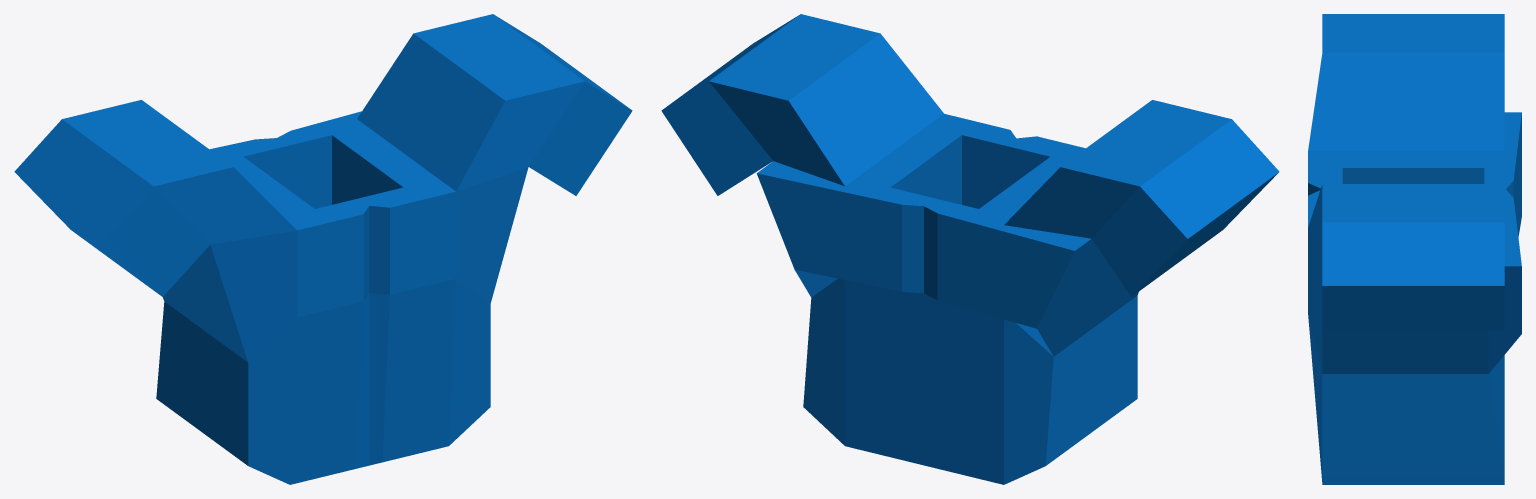
The model's file is armor.fbx.
3 views of the same model, side by side, from view 1: azimuth 30°, elevation 25°; view 2: azimuth 150°, elevation 25°; view 3: azimuth 270°, elevation 25° (orthographic).
Parts seen in each view (by area): view 1: Cube; view 2: Cube; view 3: Cube.
Part boxes in pixels (<box>): Cube: <box>14,14,632,484</box>; Cube: <box>661,14,1279,484</box>; Cube: <box>1308,14,1521,484</box>.
Size of the model in its own units: 661 by 398 by 235.
